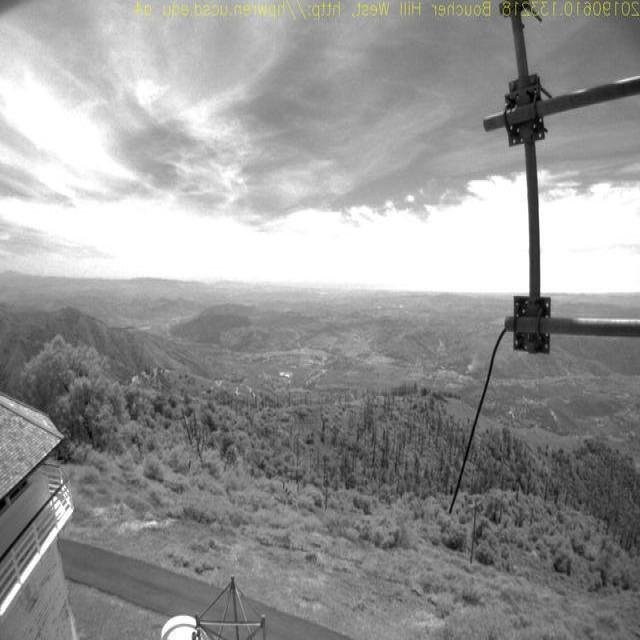Smoke: (465, 322, 497, 374)
